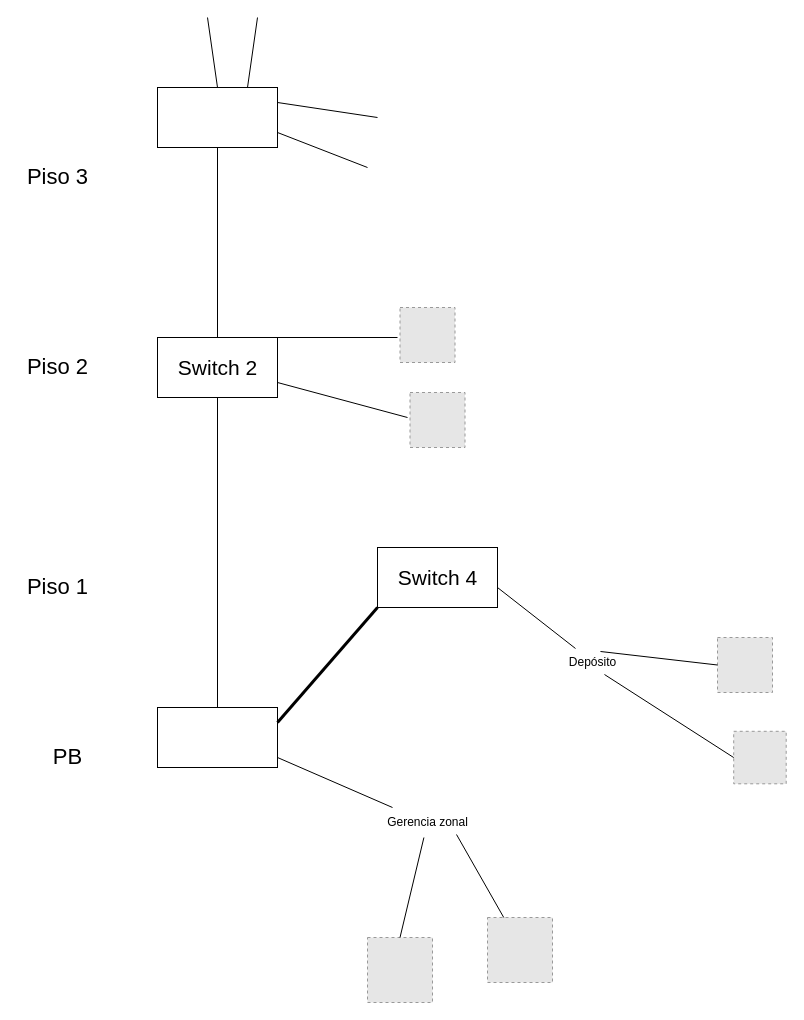
This 804x1020 diagram has some shape labels left out. Grey dashed boxes stand in for pictures. Here are the shapes that lost their labels. From the top down, the centre of each, then its label:
At (217,117): "Switch 1".
At (217,737): "Switch 3".
